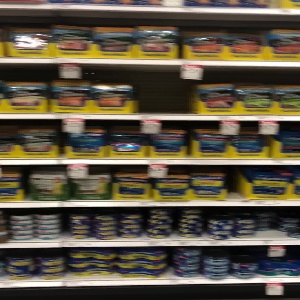void: (135, 67, 195, 112), (255, 209, 284, 239)
